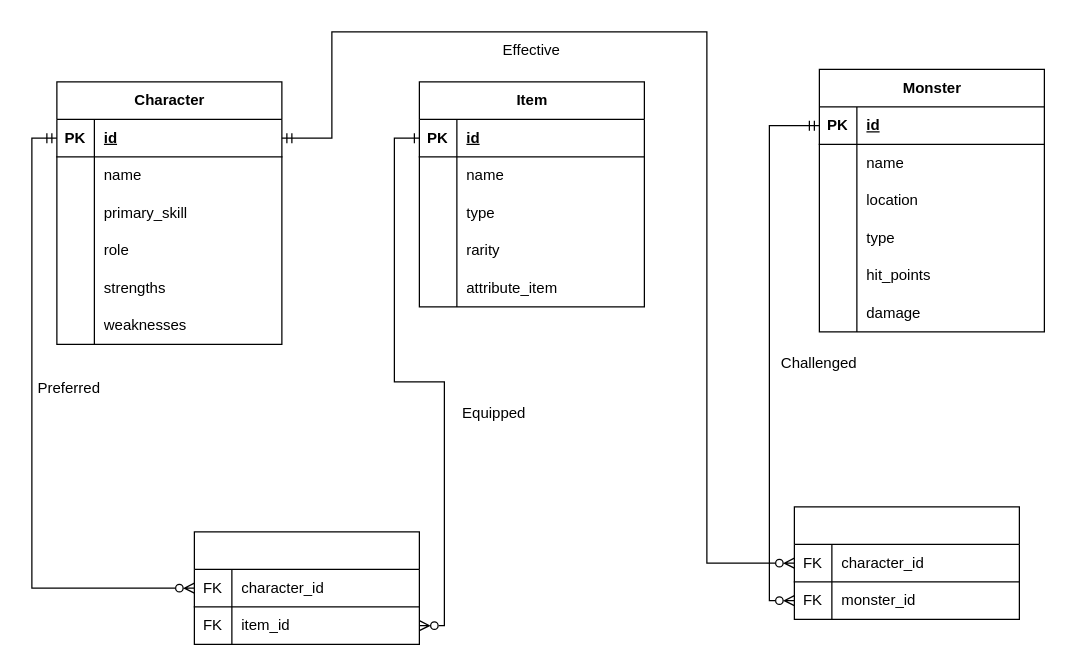
The diagram is 1066 pixels wide and 666 high, and some of its shapes have lost their labels. The box of each missing label's shape, as (x1, y1, x2, y2) in pixels:
Character-Item: (193, 531, 419, 644)
Character-Monster: (793, 506, 1019, 619)
